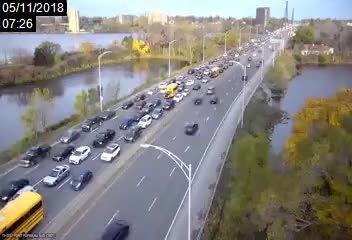congestion: (7, 102, 136, 188), (112, 81, 178, 122), (164, 63, 212, 94), (198, 52, 233, 70)
personal_car: (98, 219, 130, 240), (20, 144, 49, 166), (43, 164, 70, 184), (69, 170, 94, 191), (100, 143, 121, 163), (69, 145, 91, 163), (92, 129, 112, 146), (62, 127, 79, 144), (53, 145, 71, 161), (83, 117, 100, 131), (124, 127, 138, 143), (98, 109, 117, 120), (184, 121, 198, 135), (137, 114, 152, 127), (120, 117, 132, 130), (162, 99, 174, 110), (152, 108, 163, 120), (132, 111, 143, 122), (192, 95, 203, 106), (122, 99, 134, 109), (205, 86, 215, 96), (179, 87, 190, 96), (146, 85, 155, 95), (210, 96, 219, 106), (134, 93, 145, 101), (143, 103, 151, 113), (134, 101, 144, 109), (151, 99, 160, 106)
school_bus: (1, 191, 43, 239), (164, 83, 177, 99)
